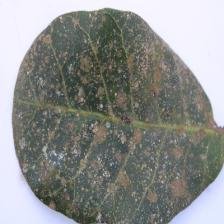red rust: (15, 9, 223, 223)
